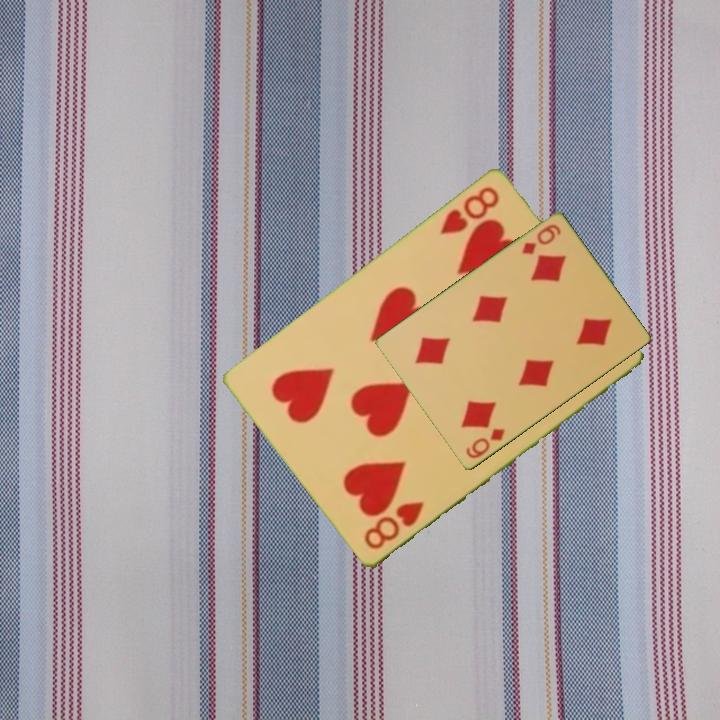6d: (462, 425, 508, 462), (518, 221, 564, 258)
8h: (360, 498, 427, 553), (436, 183, 502, 238)
